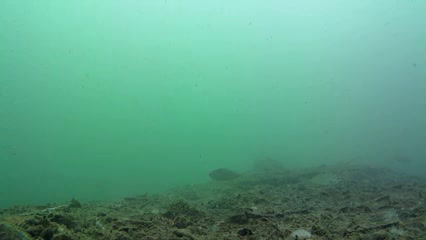azi: (298, 171, 342, 187)
smallfish: (206, 167, 243, 184)
